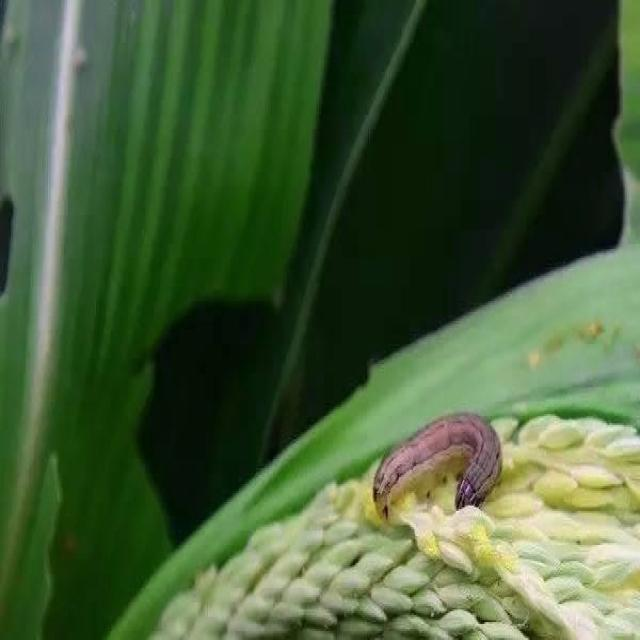army worm: (369, 401, 506, 519)
